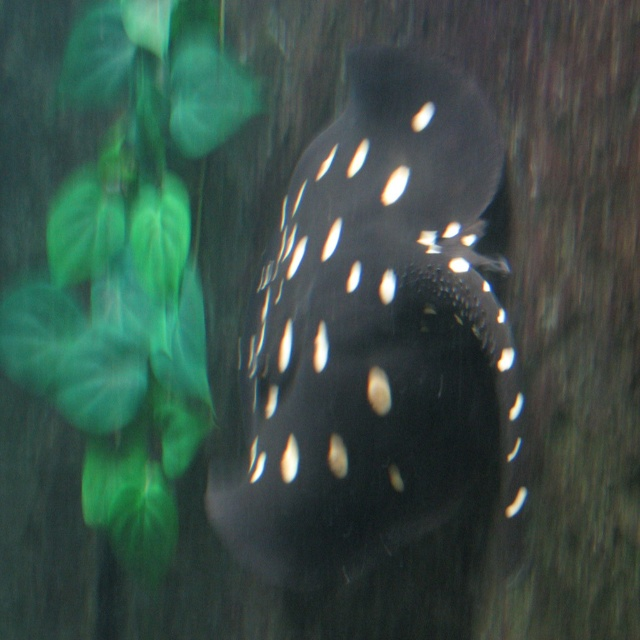Fish: (182, 42, 547, 623)
